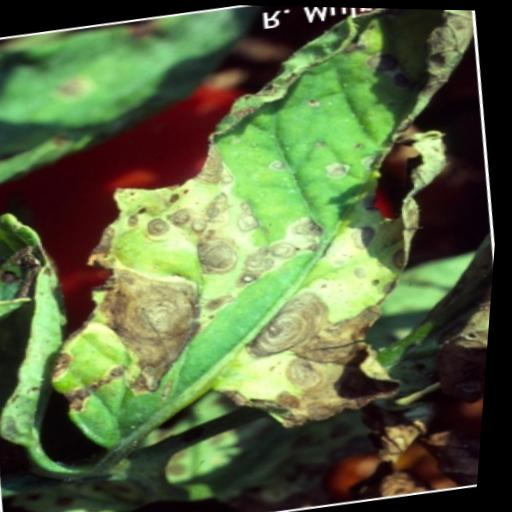Early Blight: (0, 0, 512, 468)
